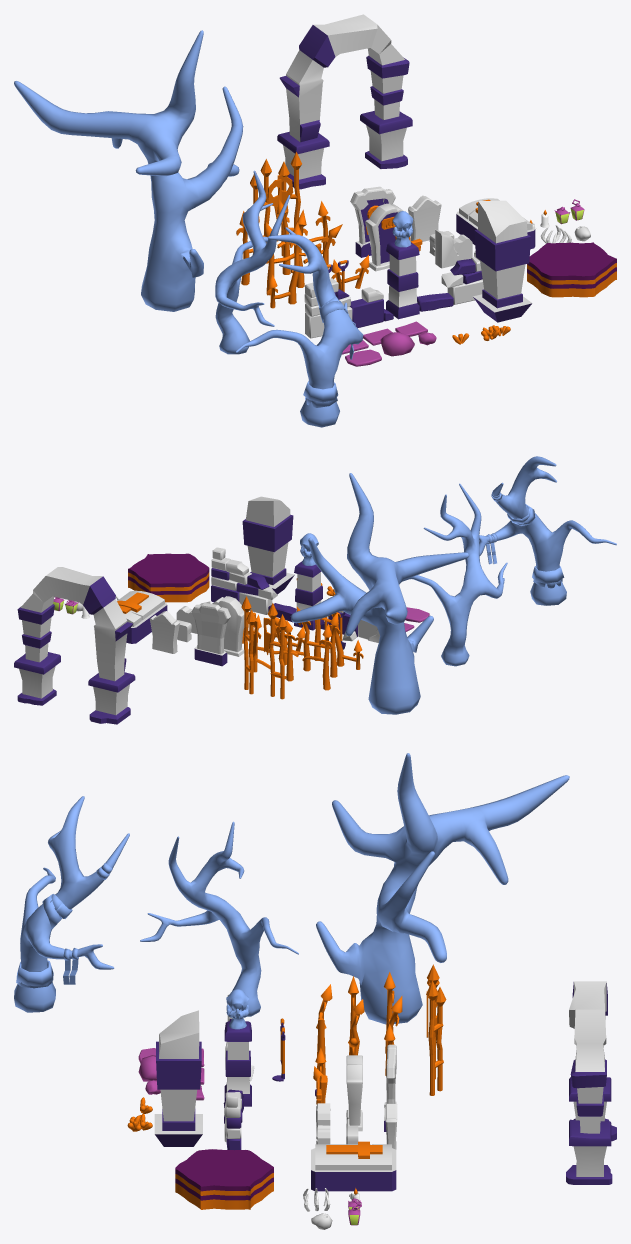
File: GhostRun_Objects.fbx
3 views of the same model, one above another, from view 1: azimuth 30°, elevation 25°; view 2: azimuth 150°, elevation 25°; view 3: azimuth 270°, elevation 25° (orthographic). The views are drawn at different scales.
Visible parts, largest first — view 1: arvore_seca_2, portal, arvore_seca_3, stone_pilar, arvore_seca_1, chao_ghostRun, muro_quebrado_2, pilar, muro_quebrado_1, portao, lapide_2, lapide_1 (+8 smaller); view 2: arvore_seca_2, portal, arvore_seca_3, arvore_seca_1, stone_pilar, chao_ghostRun, muro_quebrado_1, portao, lapide_1, caixao_pedra, cerca_3, pilar (+5 smaller); view 3: arvore_seca_2, arvore_seca_3, portal, arvore_seca_1, stone_pilar, chao_ghostRun, caixao_pedra, pilar, portao, lapide_2, muro_quebrado_1, cerca_3 (+3 smaller).
Boxes of the visible parts, x1=… form: arvore_seca_2: x1=14, y1=30, x2=243, y2=311; portal: x1=277, y1=14, x2=412, y2=189; arvore_seca_3: x1=235, y1=227, x2=363, y2=427; stone_pilar: x1=473, y1=200, x2=532, y2=322; arvore_seca_1: x1=215, y1=170, x2=290, y2=354; chao_ghostRun: x1=527, y1=242, x2=616, y2=297; muro_quebrado_2: x1=304, y1=278, x2=393, y2=338; pilar: x1=386, y1=241, x2=419, y2=319; muro_quebrado_1: x1=417, y1=251, x2=483, y2=311; portao: x1=250, y1=152, x2=301, y2=263; lapide_2: x1=365, y1=203, x2=411, y2=271; lapide_1: x1=350, y1=186, x2=395, y2=257; arvore_seca_2: x1=290, y1=473, x2=469, y2=714; portal: x1=14, y1=567, x2=135, y2=724; arvore_seca_3: x1=479, y1=456, x2=616, y2=605; arvore_seca_1: x1=402, y1=483, x2=507, y2=666; stone_pilar: x1=242, y1=496, x2=294, y2=594; chao_ghostRun: x1=128, y1=553, x2=209, y2=602; muro_quebrado_1: x1=211, y1=547, x2=296, y2=622; portao: x1=241, y1=596, x2=287, y2=699; lapide_1: x1=191, y1=603, x2=230, y2=666; caixao_pedra: x1=117, y1=590, x2=167, y2=643; cerca_3: x1=248, y1=614, x2=332, y2=690; pilar: x1=294, y1=561, x2=323, y2=630; arvore_seca_2: x1=316, y1=753, x2=569, y2=1024; arvore_seca_3: x1=14, y1=796, x2=129, y2=1012; portal: x1=566, y1=981, x2=616, y2=1184; arvore_seca_1: x1=140, y1=821, x2=298, y2=1016; stone_pilar: x1=154, y1=1010, x2=202, y2=1146; chao_ghostRun: x1=175, y1=1149, x2=273, y2=1209; caixao_pedra: x1=311, y1=1141, x2=396, y2=1191; pilar: x1=224, y1=1021, x2=251, y2=1106; portao: x1=426, y1=964, x2=446, y2=1095; lapide_2: x1=346, y1=1055, x2=362, y2=1131; muro_quebrado_1: x1=223, y1=1089, x2=243, y2=1150; cerca_3: x1=384, y1=972, x2=402, y2=1075.
Bounding box in the file's own units: 3080 × 1606 × 2997.
